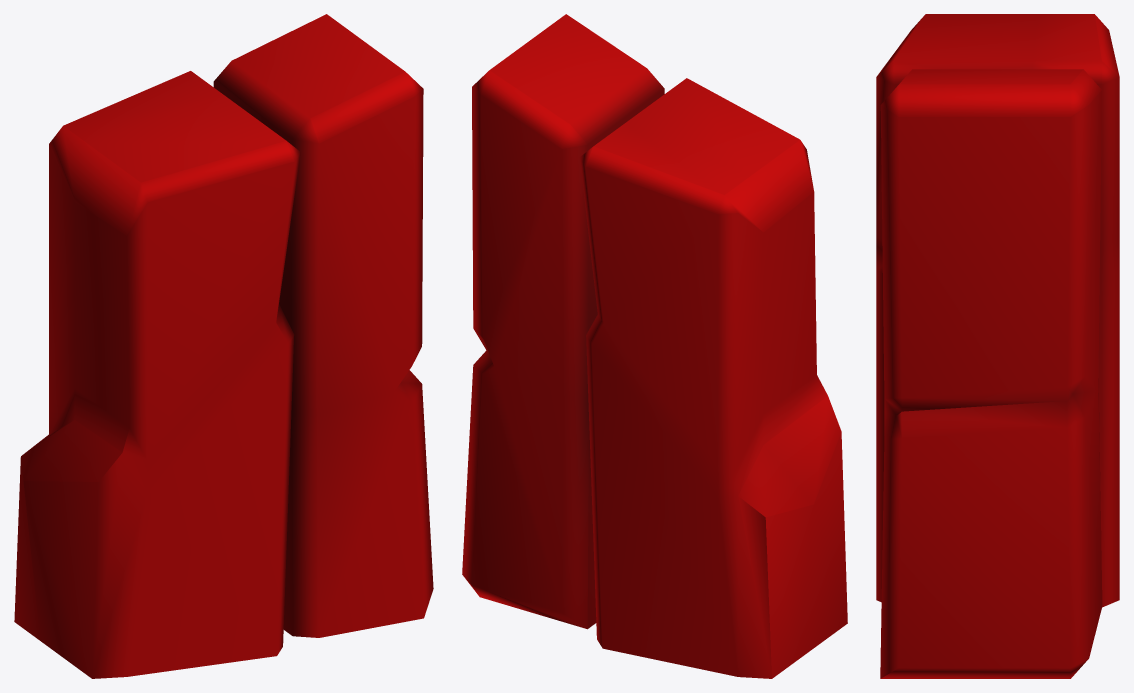
Rendered from buildings-ruins-ancientruins_v7.fbx.
3 views of the same model, side by side, from view 1: azimuth 30°, elevation 25°; view 2: azimuth 150°, elevation 25°; view 3: azimuth 270°, elevation 25° (orthographic). The views are drawn at different scales.
Visible parts, largest first — view 1: AncientRuins_v7; view 2: AncientRuins_v7; view 3: AncientRuins_v7.
Boxes of the visible parts, x1,y1,x2,y2 form: AncientRuins_v7: (14, 14, 433, 678); AncientRuins_v7: (462, 14, 847, 678); AncientRuins_v7: (876, 14, 1119, 678).
Size of the model in its own units: 3.13 by 4.7 by 1.76.
